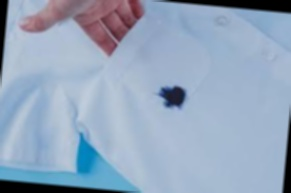ink: (158, 85, 187, 110)
